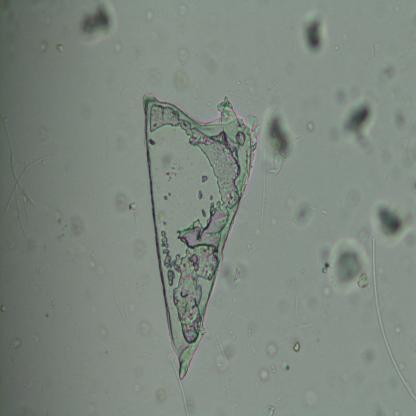Background material: (318, 231, 370, 300), (327, 88, 378, 157), (262, 108, 294, 178), (372, 199, 416, 246), (72, 0, 118, 44), (298, 6, 329, 62), (193, 30, 226, 74), (221, 258, 249, 293), (113, 192, 139, 226), (0, 0, 21, 41), (288, 197, 315, 228), (390, 106, 410, 133), (77, 252, 101, 273), (68, 213, 86, 236), (173, 69, 191, 91), (302, 388, 320, 409), (26, 234, 42, 255), (171, 2, 190, 18), (380, 62, 394, 82), (265, 338, 278, 359), (36, 36, 50, 55), (138, 318, 151, 337), (96, 324, 108, 344), (153, 386, 166, 404), (366, 348, 381, 363), (176, 49, 189, 66), (257, 367, 270, 384), (307, 297, 319, 314), (135, 244, 146, 260), (372, 40, 382, 54), (265, 402, 275, 416), (304, 119, 314, 133), (292, 339, 301, 354), (11, 338, 22, 350), (144, 12, 154, 24), (54, 43, 64, 55), (279, 361, 288, 373), (0, 305, 5, 312)
Fragment: (141, 94, 258, 378)
Glass filter fibre: (371, 234, 416, 402), (0, 124, 49, 225), (170, 358, 189, 415), (260, 146, 270, 231), (214, 335, 229, 368), (112, 293, 127, 325), (296, 321, 314, 331), (292, 134, 306, 146), (294, 295, 300, 316), (119, 86, 128, 96)
